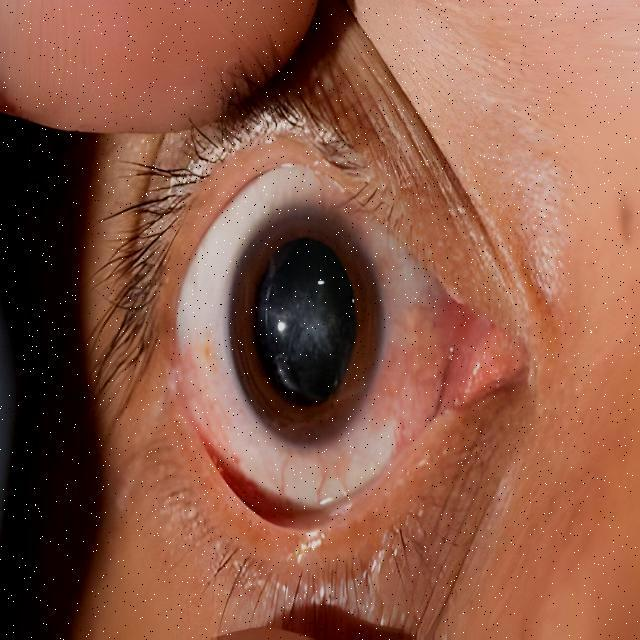Cataract: (215, 207, 394, 466)
